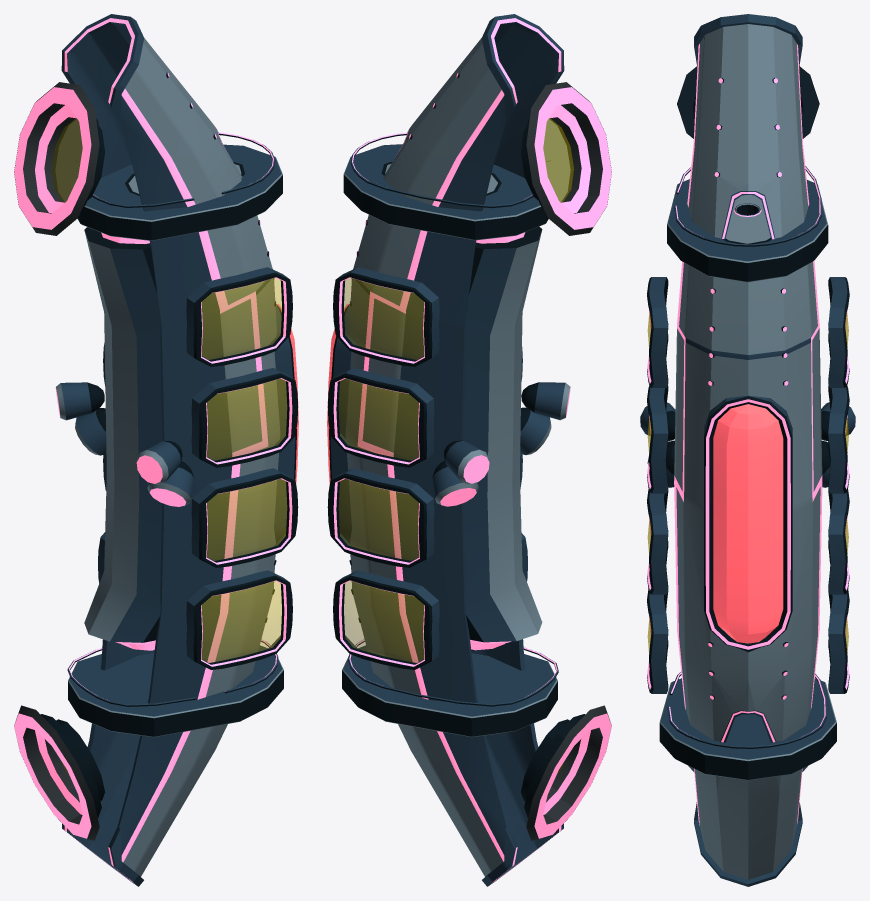
Rendered from airship_vertical_01.fbx.
3 renders of one model, left to right at view 1: azimuth 30°, elevation 25°; view 2: azimuth 150°, elevation 25°; view 3: azimuth 270°, elevation 25°, orthographic.
Visible parts, largest first — view 1: airship_03_dark_13, polySurface13, airship_03_dark_11, airship_03_dark_4, airship_03_dark_2, airship_03_dark_1, airship_03_dark_3, airship_03_dark_12, airship_03_dark_14, airship_03_dark_9, airship_03_dark_10, airship_03_dark_8 (+1 smaller); view 2: airship_03_dark_13, polySurface13, airship_03_dark_11, airship_03_dark_4, airship_03_dark_2, airship_03_dark_1, airship_03_dark_3, airship_03_dark_12, airship_03_dark_14, airship_03_dark_9, airship_03_dark_10, airship_03_dark_8 (+1 smaller); view 3: airship_03_dark_13, airship_03_dark_9, airship_03_dark_4, polySurface13, airship_03_dark_12, airship_03_dark_3, airship_03_dark_1, airship_03_dark_2, airship_03_dark_11, airship_03_dark_14, airship_03_dark_8, airship_03_dark_7 (+2 smaller).
Boxes of the visible parts, left/top/right/bottom form: airship_03_dark_13: left=61, top=14, right=280, bottom=886; polySurface13: left=77, top=144, right=282, bottom=650; airship_03_dark_11: left=14, top=82, right=104, bottom=840; airship_03_dark_4: left=68, top=645, right=283, bottom=737; airship_03_dark_2: left=98, top=532, right=292, bottom=669; airship_03_dark_1: left=103, top=453, right=298, bottom=567; airship_03_dark_3: left=103, top=343, right=298, bottom=467; airship_03_dark_12: left=186, top=267, right=292, bottom=366; airship_03_dark_14: left=55, top=382, right=182, bottom=484; airship_03_dark_9: left=274, top=304, right=298, bottom=543; airship_03_dark_10: left=75, top=408, right=194, bottom=506; airship_03_dark_8: left=67, top=639, right=278, bottom=706; airship_03_dark_13: left=345, top=14, right=564, bottom=886; polySurface13: left=343, top=144, right=548, bottom=650; airship_03_dark_11: left=521, top=82, right=611, bottom=840; airship_03_dark_4: left=342, top=645, right=557, bottom=737; airship_03_dark_2: left=333, top=533, right=527, bottom=669; airship_03_dark_1: left=327, top=453, right=522, bottom=567; airship_03_dark_3: left=327, top=347, right=522, bottom=467; airship_03_dark_12: left=333, top=267, right=439, bottom=366; airship_03_dark_14: left=444, top=382, right=570, bottom=484; airship_03_dark_9: left=327, top=304, right=351, bottom=543; airship_03_dark_10: left=432, top=407, right=551, bottom=506; airship_03_dark_8: left=348, top=639, right=558, bottom=706; airship_03_dark_13: left=674, top=14, right=822, bottom=886; airship_03_dark_9: left=704, top=395, right=792, bottom=650; airship_03_dark_4: left=659, top=678, right=836, bottom=780; polySurface13: left=667, top=179, right=828, bottom=650; airship_03_dark_12: left=647, top=277, right=849, bottom=387; airship_03_dark_3: left=647, top=385, right=849, bottom=493; airship_03_dark_1: left=647, top=489, right=849, bottom=594; airship_03_dark_2: left=647, top=589, right=849, bottom=693; airship_03_dark_11: left=677, top=66, right=819, bottom=772; airship_03_dark_14: left=640, top=402, right=855, bottom=440; airship_03_dark_8: left=667, top=672, right=826, bottom=748; airship_03_dark_7: left=674, top=166, right=821, bottom=246.
Size of the model in its own units: 25.64 by 80.89 by 18.08.
